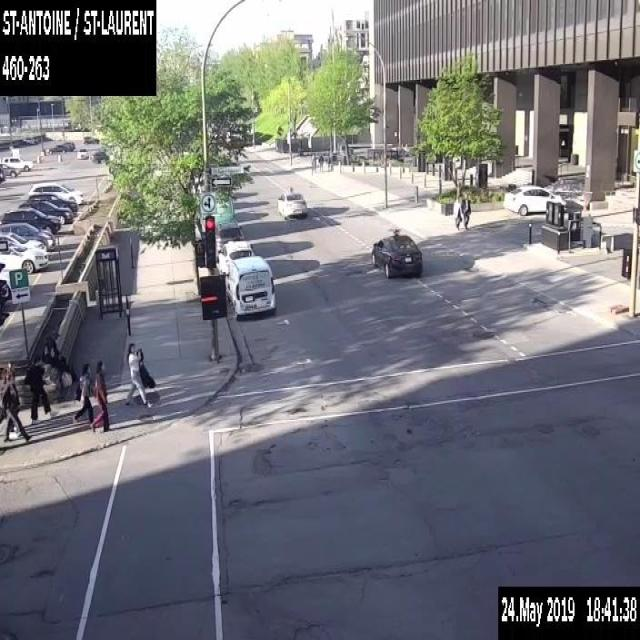construction: (276, 124, 283, 134)
pedestrian: (0, 371, 31, 441), (124, 341, 156, 408), (22, 353, 52, 424), (89, 358, 112, 432), (72, 360, 94, 424), (0, 360, 18, 437), (41, 333, 64, 369), (460, 193, 470, 229), (452, 196, 462, 229), (310, 151, 316, 172), (318, 153, 323, 171)
vehicle: (220, 253, 276, 320), (370, 231, 422, 277), (502, 184, 566, 214), (0, 220, 55, 250), (0, 239, 47, 273), (0, 207, 61, 233), (218, 239, 254, 275), (28, 180, 82, 204), (18, 200, 72, 223), (26, 193, 77, 216), (0, 231, 46, 251), (276, 190, 306, 218), (0, 155, 32, 170), (0, 278, 10, 305), (0, 163, 19, 177), (91, 150, 108, 162), (82, 135, 99, 144), (48, 144, 67, 152), (76, 148, 89, 158), (64, 140, 75, 149), (62, 142, 73, 150), (0, 167, 4, 181)
